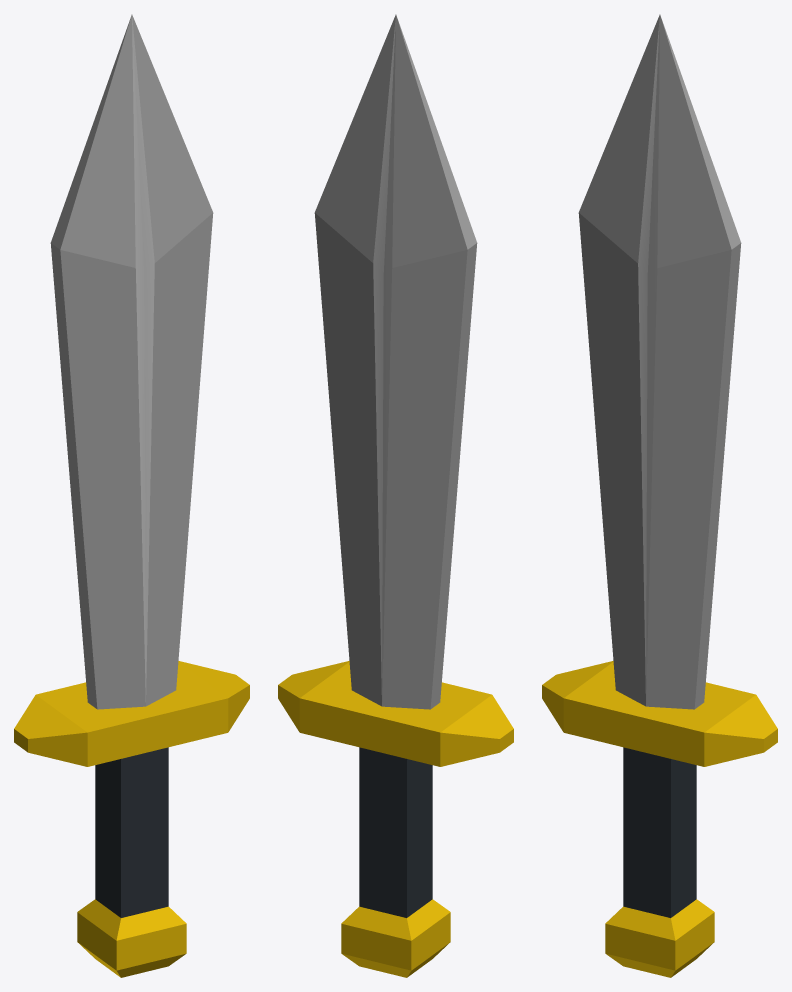
The model's file is sword.fbx.
The picture shows the model from 3 angles, left to right: view 1: azimuth 30°, elevation 25°; view 2: azimuth 150°, elevation 25°; view 3: azimuth 330°, elevation 25°; orthographic projection.
Parts seen in each view (by area): view 1: sword; view 2: sword; view 3: sword.
Boxes of the visible parts, <box> form: sword: <box>14,14,249,977</box>; sword: <box>278,14,513,977</box>; sword: <box>542,14,777,977</box>.
Size of the model in its own units: 27.27 by 111 by 11.05.
